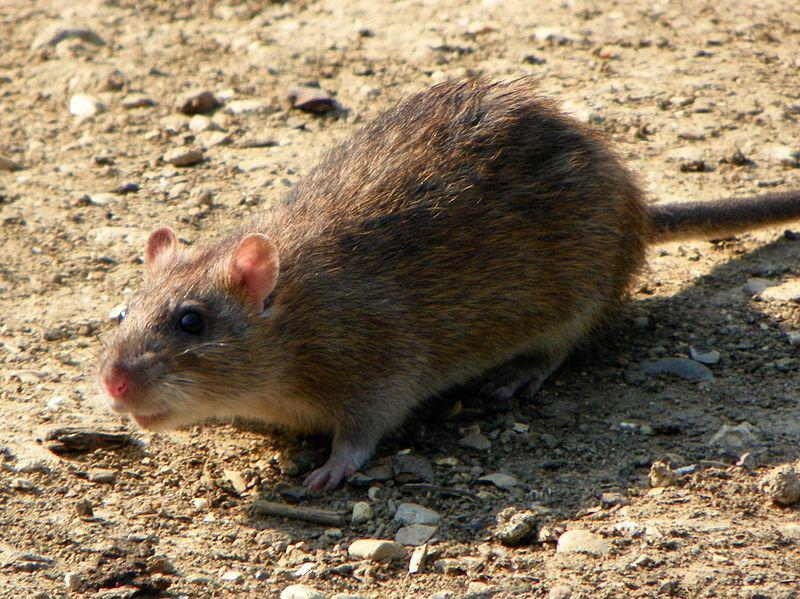rat: (103, 78, 800, 496)
